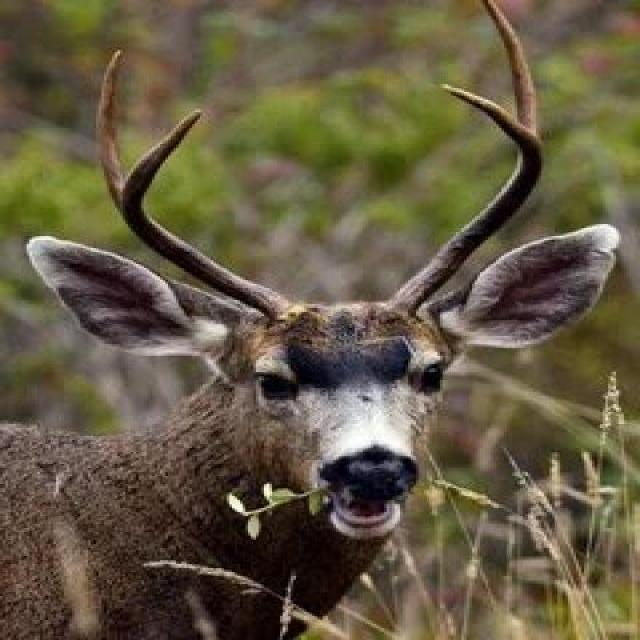deer: (0, 0, 599, 628)
